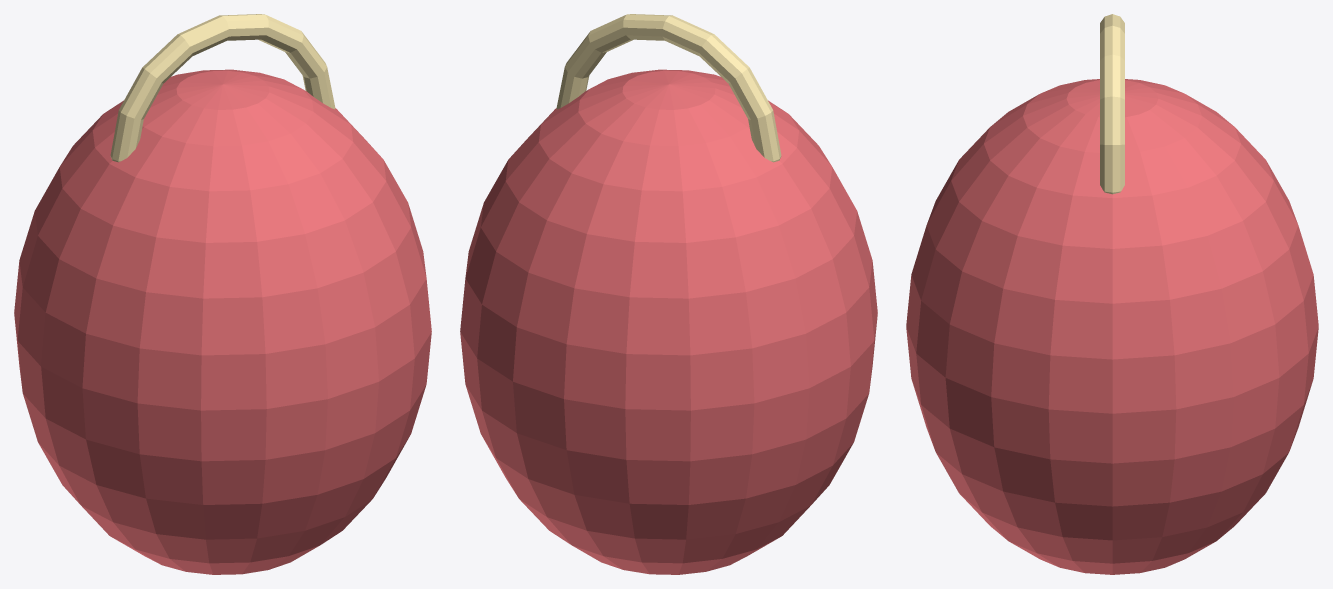
File: pickup.lantern.v1.glb
The picture shows the model from 3 angles, left to right: view 1: azimuth 30°, elevation 25°; view 2: azimuth 150°, elevation 25°; view 3: azimuth 270°, elevation 25°; orthographic projection.
Visible parts, largest first — view 1: pickup.lantern.v1_body, pickup.lantern.v1_top; view 2: pickup.lantern.v1_body, pickup.lantern.v1_top; view 3: pickup.lantern.v1_body, pickup.lantern.v1_top.
Part boxes in pixels (x1,y1,x2,y2): pickup.lantern.v1_body: [14, 69, 431, 574]; pickup.lantern.v1_top: [110, 14, 335, 162]; pickup.lantern.v1_body: [460, 69, 877, 574]; pickup.lantern.v1_top: [556, 14, 781, 162]; pickup.lantern.v1_body: [906, 79, 1318, 574]; pickup.lantern.v1_top: [1100, 14, 1124, 194].
Bounding box in the file's own units: 0.44 × 0.629 × 0.44.
